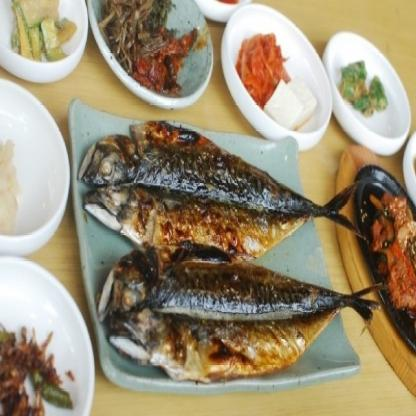Peixe: (86, 238, 378, 381), (83, 147, 370, 256)
